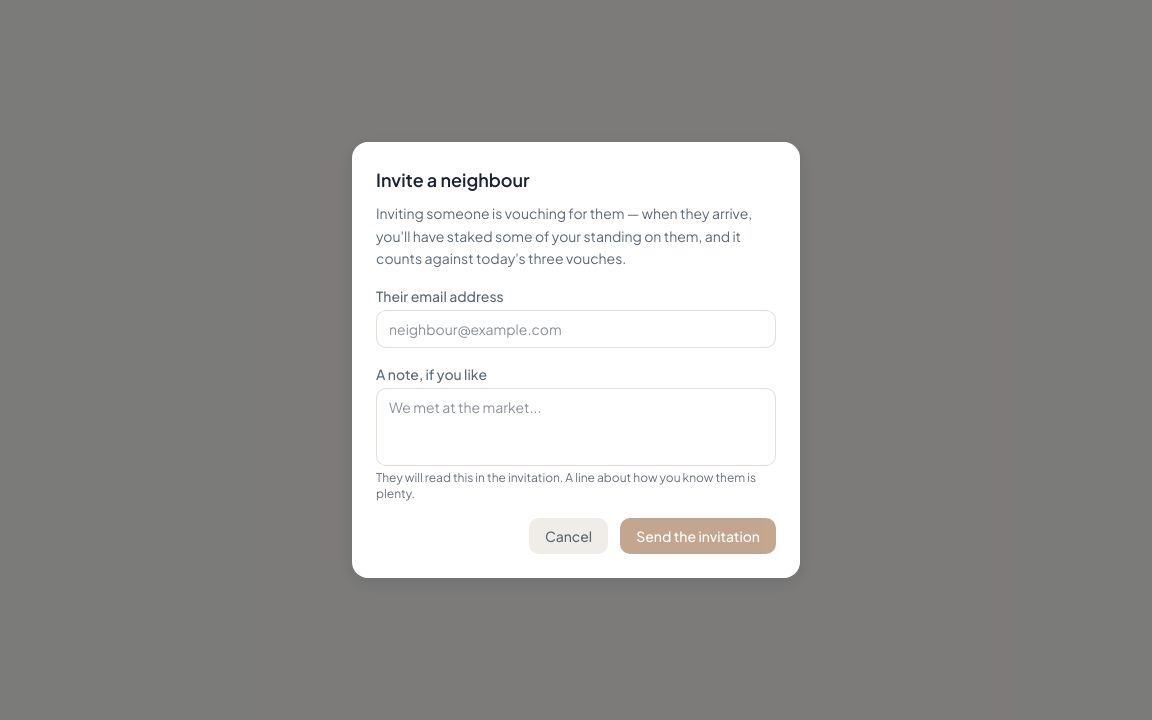
Test case: InviteDialog refusals › passes the server's already-invited refusal through
Type "newcomer@example.com" into the field labelled "Their email address" at coordinates (576, 329), box left=376, top=310, right=776, bottom=348
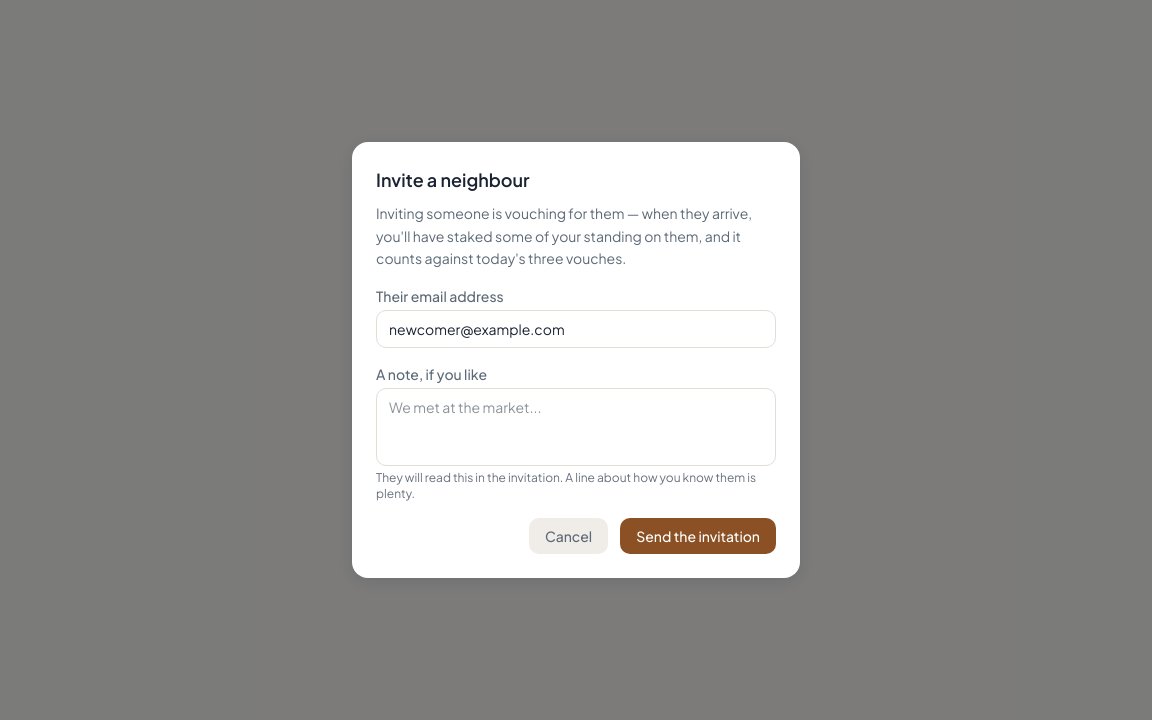
Click the button "Send the invitation" at coordinates (698, 536), box left=620, top=518, right=776, bottom=554
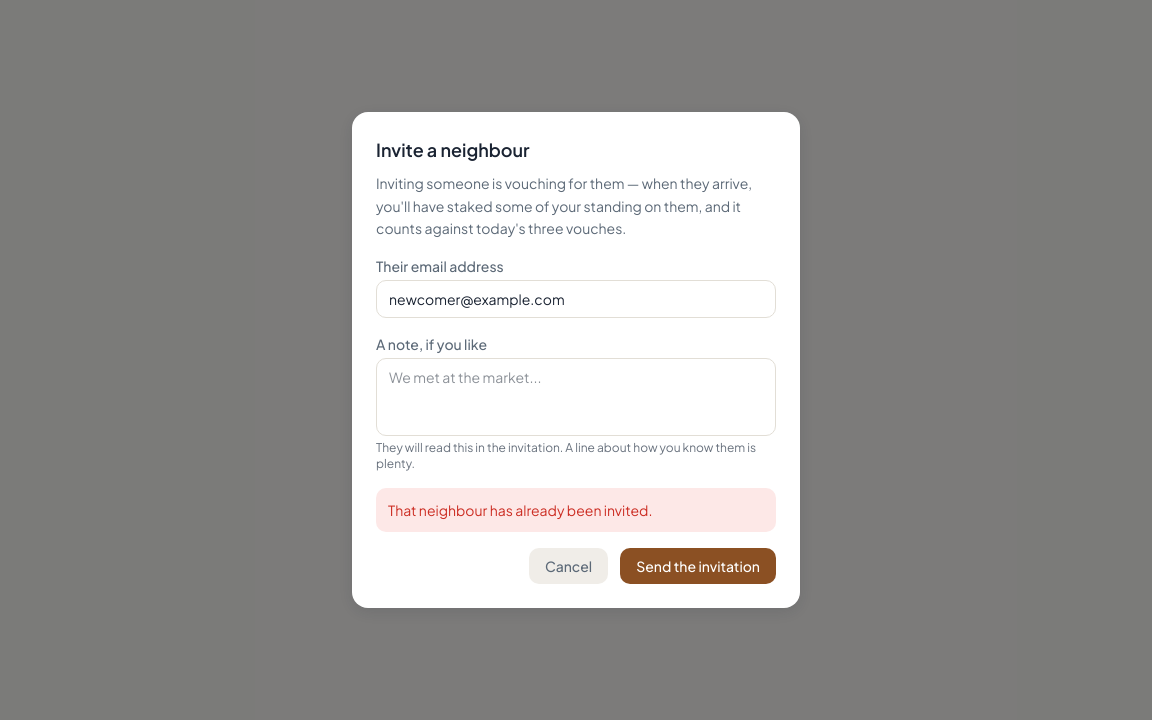
expect the text "That neighbour has already been invited." is shown: met, box left=376, top=488, right=776, bottom=532
